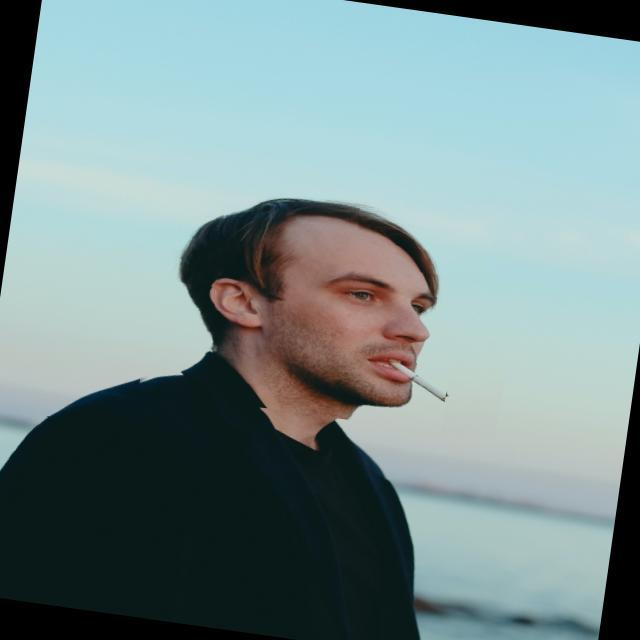cigarette: (373, 354, 508, 451)
